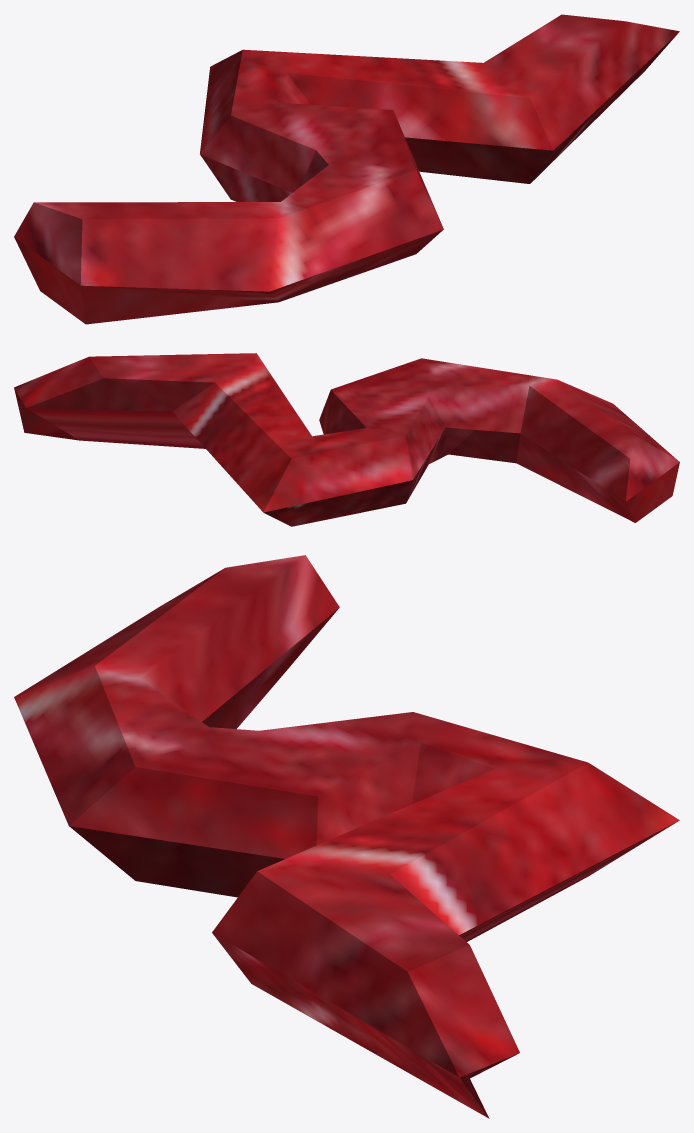
File: gib3.fbx
The picture shows the model from 3 angles, top to bottom: view 1: azimuth 30°, elevation 25°; view 2: azimuth 150°, elevation 25°; view 3: azimuth 270°, elevation 25°; orthographic projection. The views are drawn at different scales.
Visible parts, largest first — view 1: Cube; view 2: Cube; view 3: Cube.
Part boxes in pixels (x1,y1,x2,y2): Cube: [14, 14, 679, 324]; Cube: [14, 353, 679, 526]; Cube: [14, 555, 679, 1118].
Bounding box in the file's own units: 471 × 53.9 × 282.
